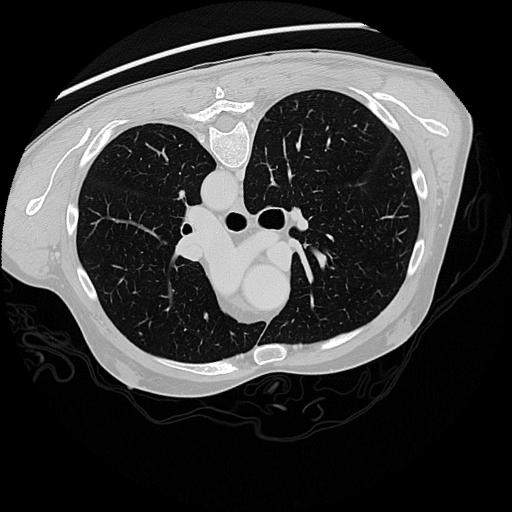nodule: (176, 187, 191, 202)
